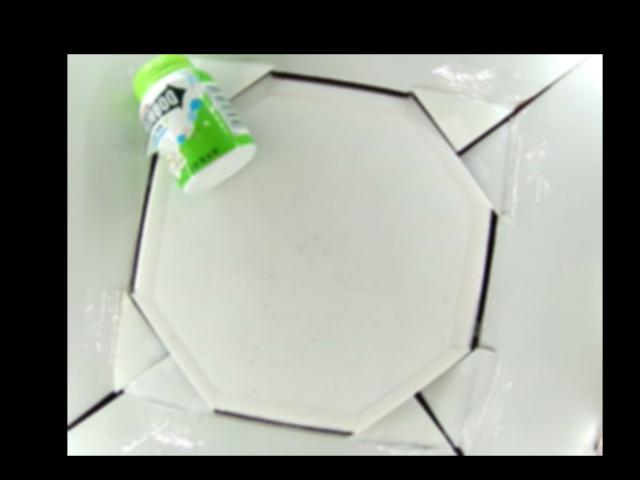Bottle: (131, 55, 258, 191)
